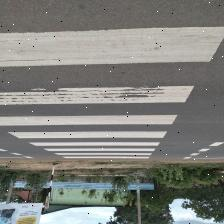crossing: (1, 27, 223, 162), (0, 86, 194, 104), (1, 114, 178, 127), (7, 131, 168, 139)
